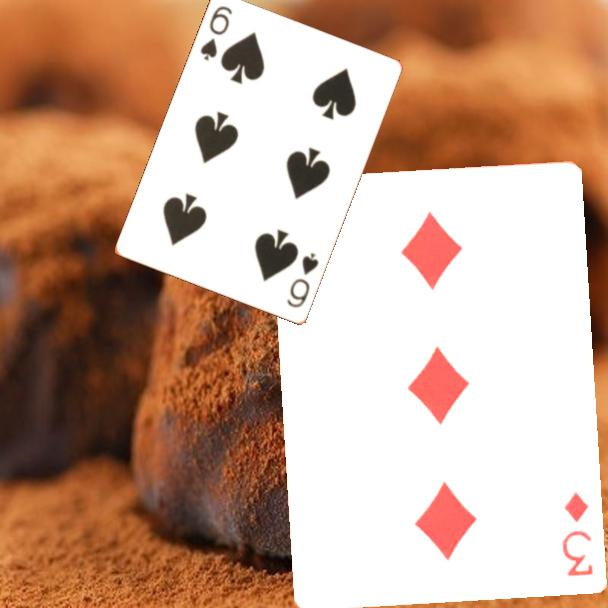d03: (558, 488, 595, 579)
s06: (283, 249, 322, 311), (197, 3, 235, 64)
